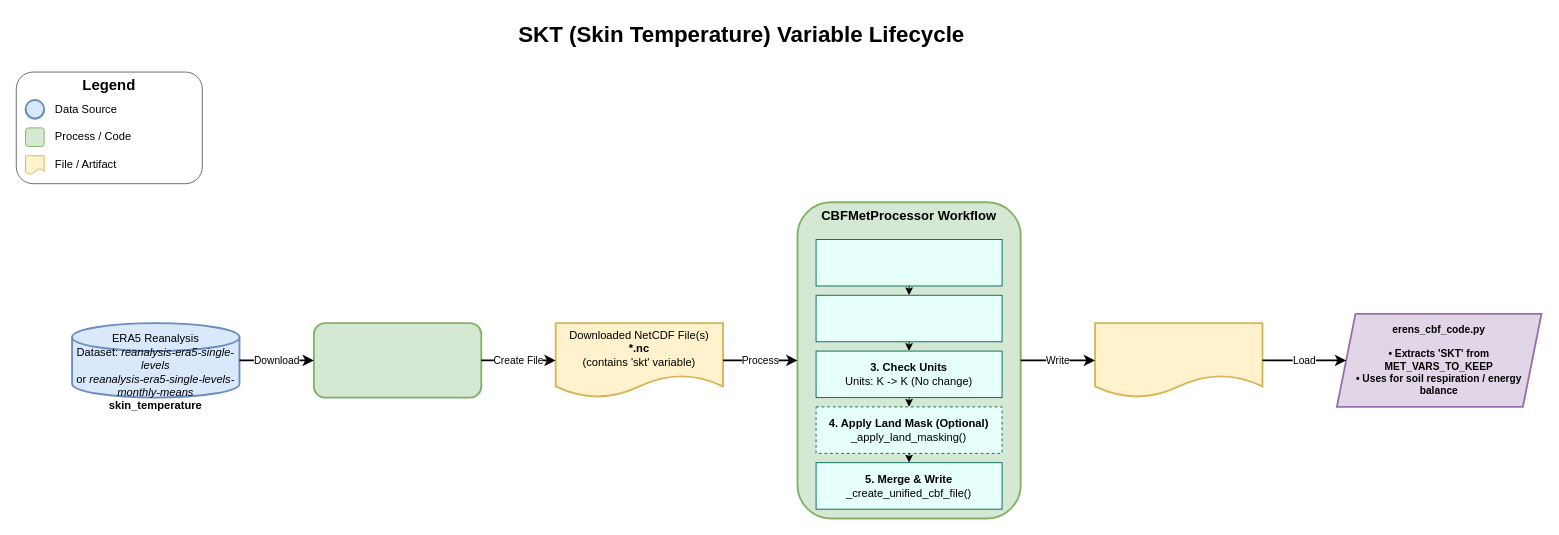
Image size: 1559x535. Some labels were removed from this diagram. The centre of each missing label's shape, as x and y in pixels:
"1. Load Unified Dataset _load_unified_era5_dataset()" goes at point 908,262.
"2. Map Variable 'skin_temperature' -> 'SKT'" goes at point 908,318.
"ecmwf_downloader.py" goes at point 397,360.
"Final CBF Met File AllMet05x05_LFmasked.nc (contains 'SKT' variable)" goes at point 1178,360.
